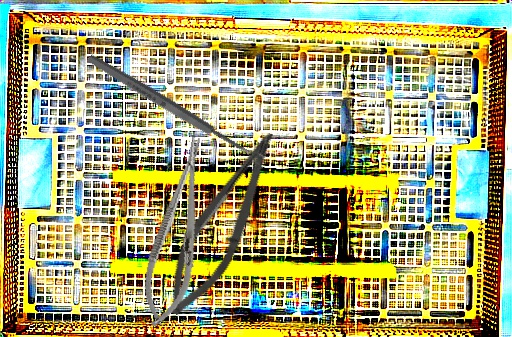Micro Scissor: (153, 119, 289, 327)
Needle Holder: (134, 132, 221, 332)
Surgical Spoon: (86, 52, 265, 167)
